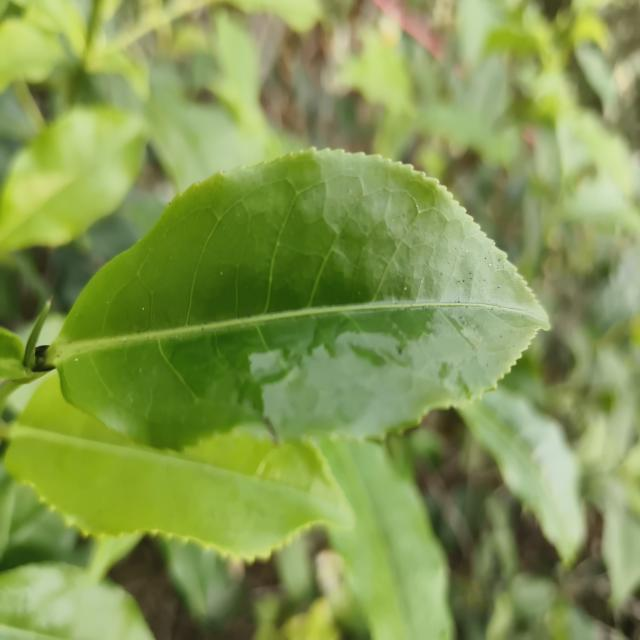Leaf: (46, 149, 548, 449), (5, 377, 354, 561), (319, 437, 454, 640), (460, 390, 585, 563), (0, 106, 146, 250), (147, 83, 266, 192), (0, 563, 153, 640), (0, 18, 64, 91), (602, 485, 640, 607), (215, 13, 260, 106)
